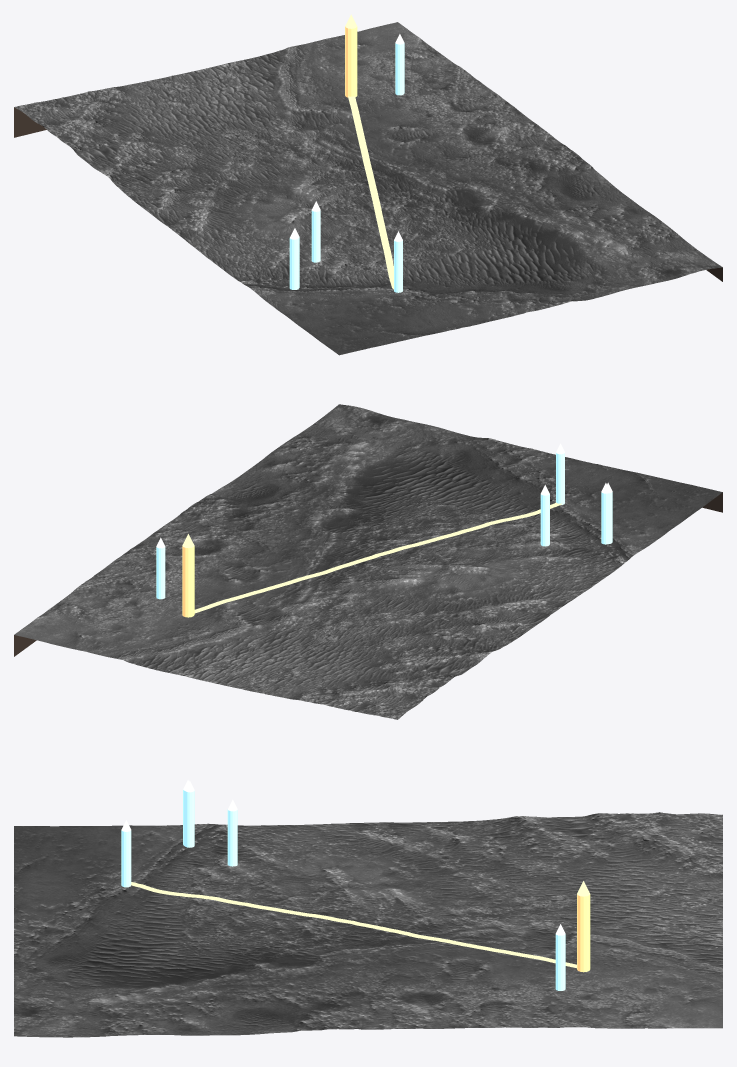
Rendered from jezero-marswalk-x1.glb.
3 renders of one model, top to bottom at view 1: azimuth 30°, elevation 25°; view 2: azimuth 150°, elevation 25°; view 3: azimuth 270°, elevation 25°, orthographic. The views are drawn at different scales.
Visible parts, largest first — view 1: terrain, science, route, base, plinth; view 2: terrain, science, route, base; view 3: terrain, science, route, base.
Part boxes in pixels (left/top/right/bottom): terrain: left=14, top=22, right=722, bottom=355; science: left=289, top=34, right=404, bottom=292; route: left=348, top=96, right=393, bottom=289; base: left=345, top=14, right=357, bottom=97; plinth: left=14, top=107, right=722, bottom=281; terrain: left=14, top=404, right=722, bottom=719; science: left=156, top=443, right=612, bottom=599; route: left=194, top=502, right=561, bottom=613; base: left=182, top=534, right=194, bottom=617; terrain: left=14, top=812, right=722, bottom=1037; science: left=121, top=780, right=565, bottom=990; route: left=130, top=882, right=576, bottom=968; base: left=577, top=881, right=590, bottom=972.
Bounding box in the file's own units: 0.4089 × 0.1058 × 0.6.
Materials: 5 (1 with a texture image).
